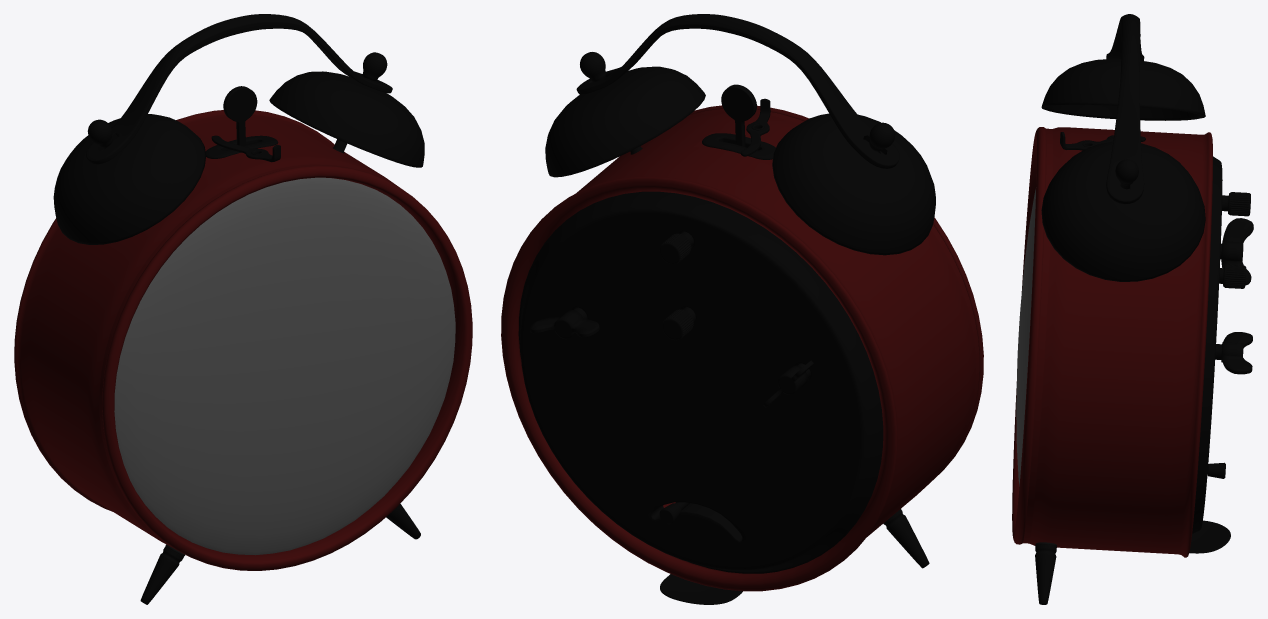
File: Clock.FBX
3 renders of one model, left to right at view 1: azimuth 30°, elevation 25°; view 2: azimuth 150°, elevation 25°; view 3: azimuth 270°, elevation 25°, orthographic. The views are drawn at different scales.
Parts seen in each view (by area): view 1: Glass, Clock_box, Bell_01, Handle, Hold, Legs, Bolt; view 2: Clock_box, Bell_01, Handle, Keys, Hold, LegBack, Bolt, Legs; view 3: Clock_box, Bell_01, Handle, Keys, Glass, Legs, LegBack, Bolt, Hold.
Part boxes in pixels (x1,y1,x2,y2): Glass: (114,177,455,555); Clock_box: (14,110,472,570); Bell_01: (53,71,424,244); Handle: (86,14,392,164); Hold: (205,86,280,162); Legs: (140,503,420,604); Bolt: (87,52,387,153); Clock_box: (501,105,983,591); Bell_01: (545,66,935,255); Handle: (576,14,899,168); Keys: (530,231,813,524); Hold: (702,84,775,159); LegBack: (660,574,742,604); Bolt: (580,52,895,154); Legs: (883,509,929,568); Clock_box: (1012,127,1222,557); Bell_01: (1041,59,1205,281); Handle: (1106,14,1144,204); Keys: (1207,192,1253,478); Glass: (1016,187,1036,486); Legs: (1035,542,1056,604); LegBack: (1189,520,1230,553); Bolt: (1115,159,1138,189); Hold: (1060,132,1145,150).
Size of the model in its own units: 13.66 by 18.1 by 7.74.
